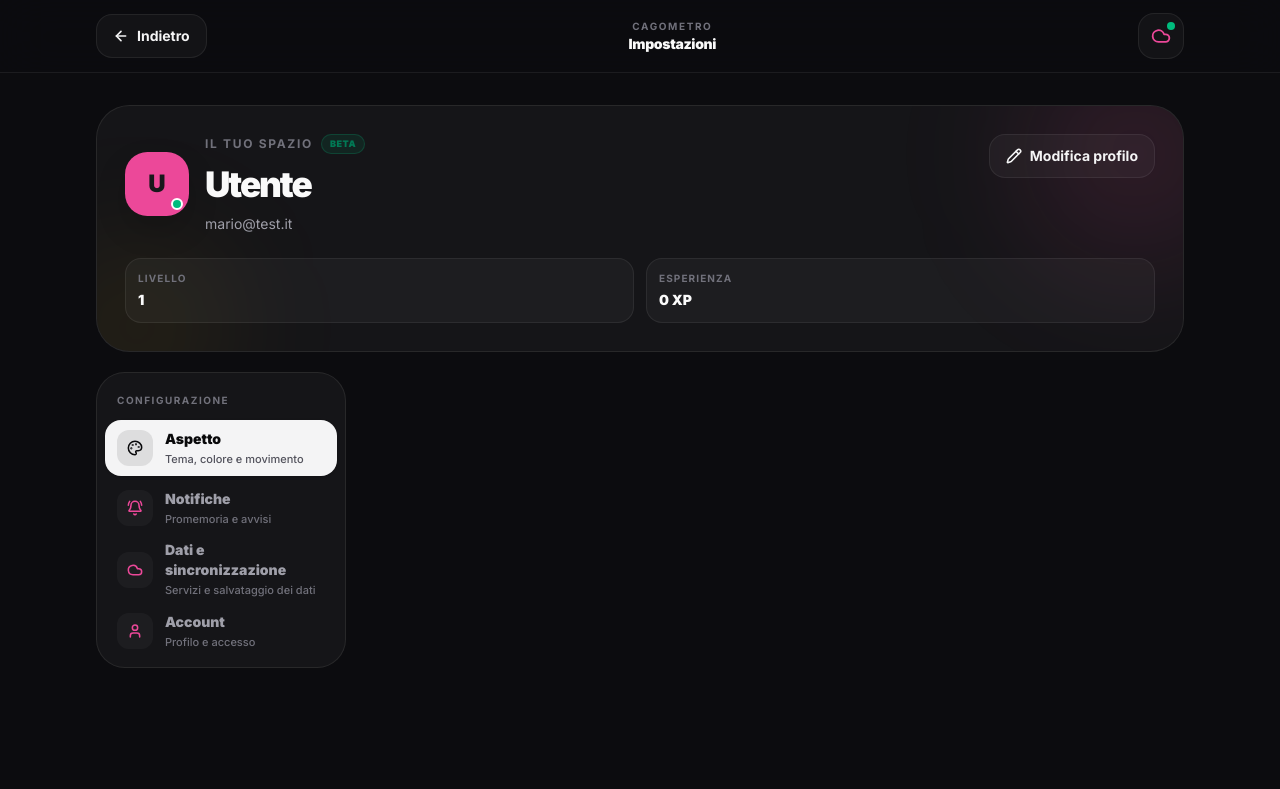
CagometroSettings › nasconde i consumi del piano agli altri account
The width and height of the screenshot is (1280, 789).
Step 1. Click the button "Account Profilo e accesso" → [221, 631], box [105,603,337,659]
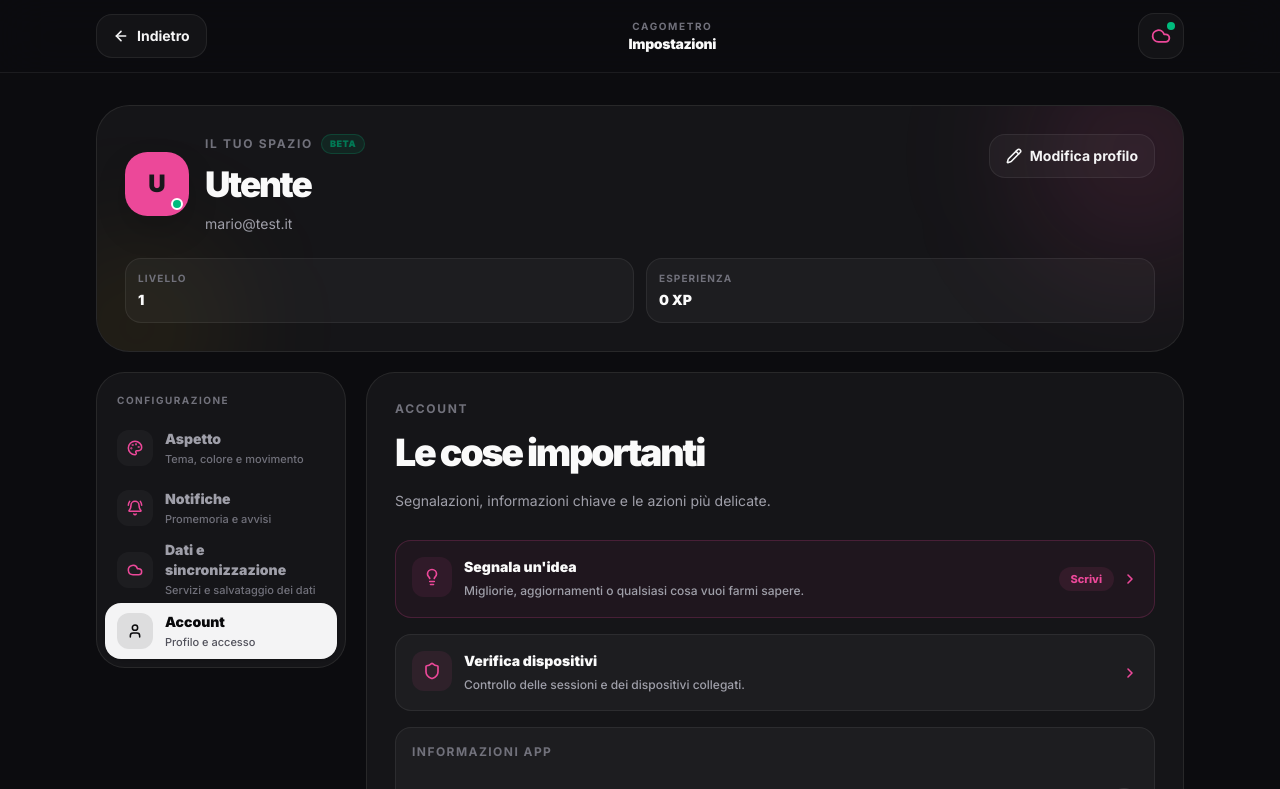
Now the heading "Le cose importanti" is shown, box [395,430,704,475]
